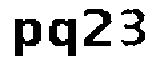2: (82, 1, 113, 53)
3: (116, 6, 152, 52)
p: (12, 16, 43, 60)
q: (48, 15, 78, 60)
